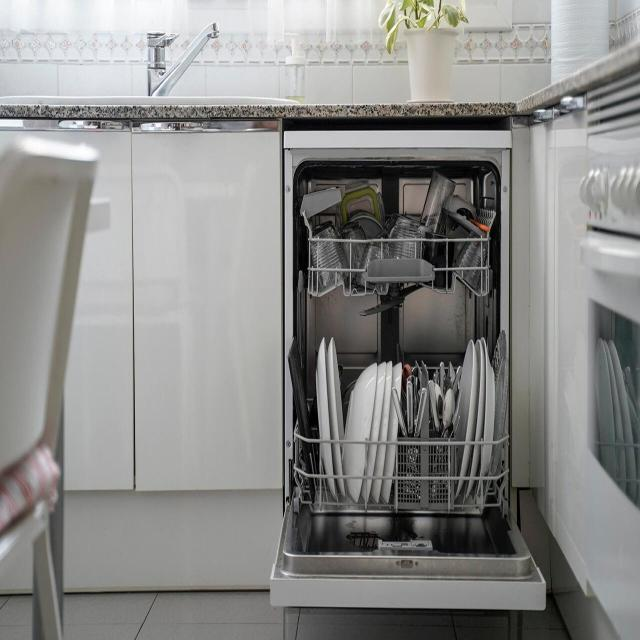dishwasher: (274, 114, 550, 618)
